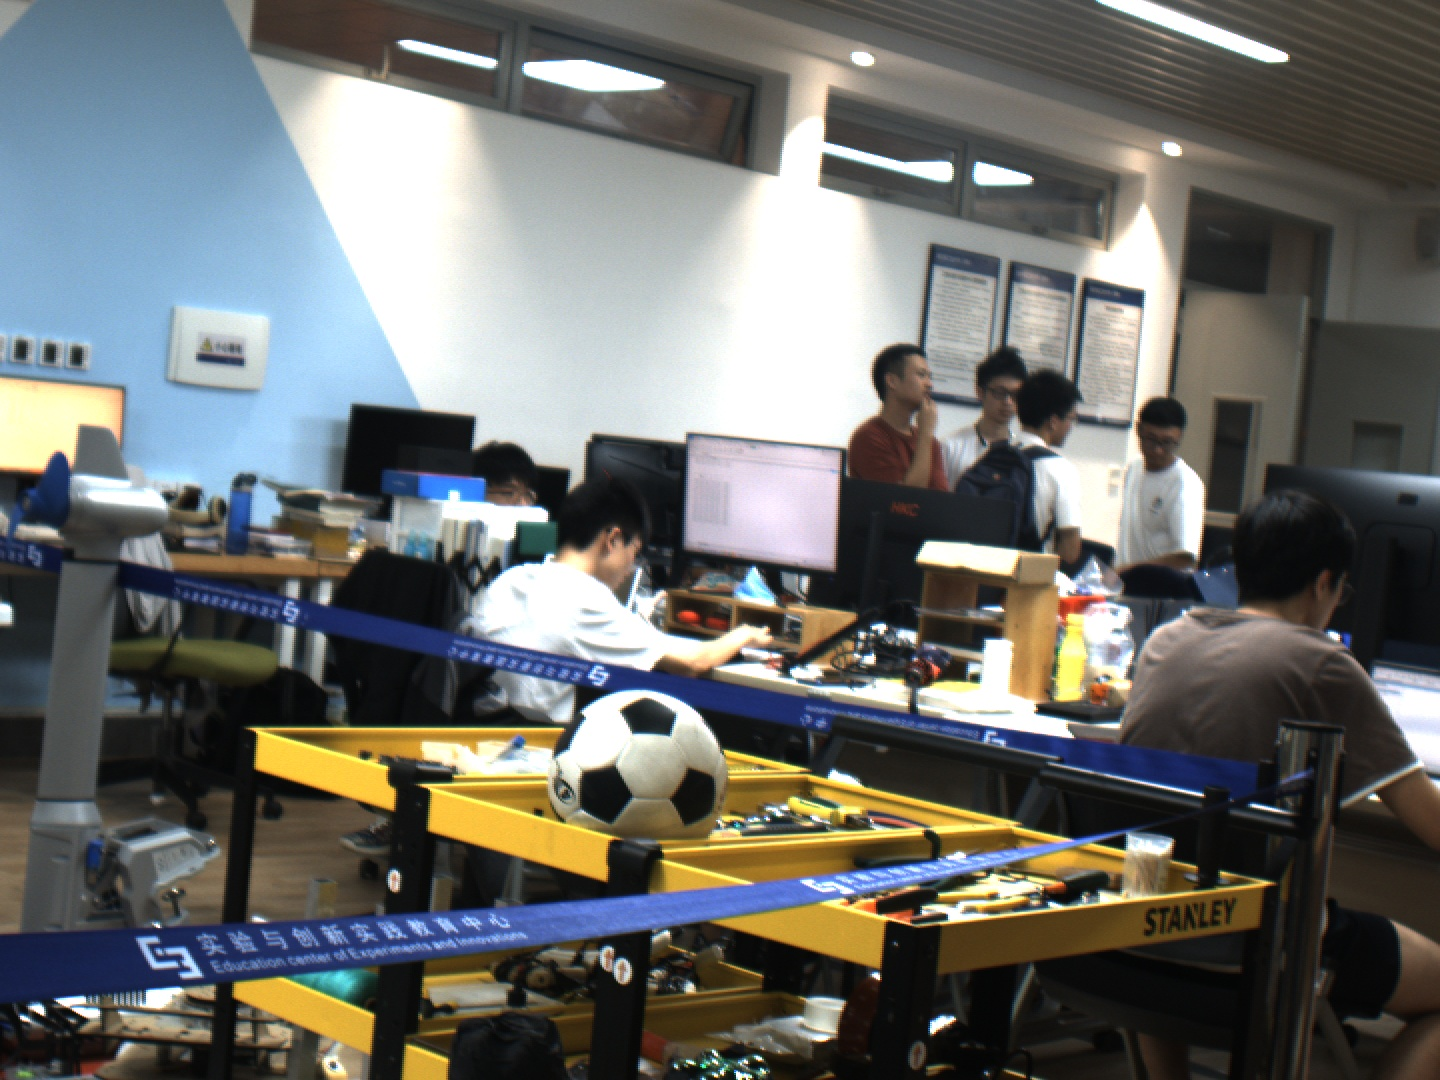ball: (534, 684, 742, 849)
